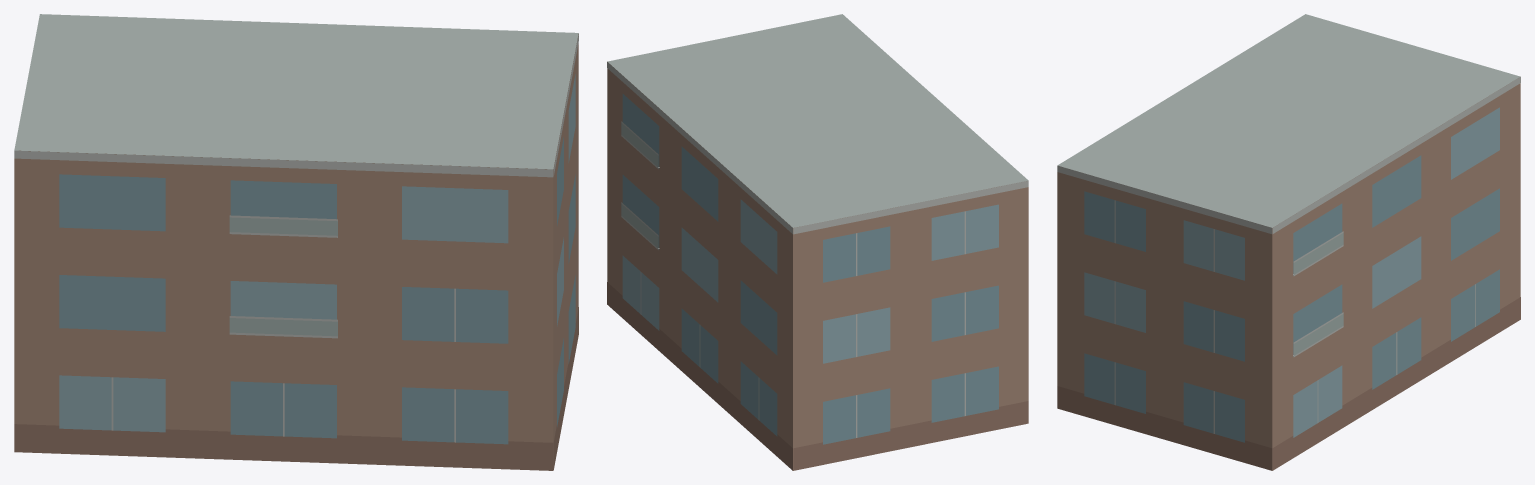
The model's file is survey-upis-32704771.glb.
The picture shows the model from 3 angles, left to right: view 1: azimuth 30°, elevation 25°; view 2: azimuth 150°, elevation 25°; view 3: azimuth 270°, elevation 25°; orthographic projection. The views are drawn at different scales.
Parts seen in each view (by area): view 1: survey-upis-32704771.tmp; view 2: survey-upis-32704771.tmp; view 3: survey-upis-32704771.tmp.
Boxes of the visible parts, box(x1,y1,x2,y2) form: survey-upis-32704771.tmp: box(14, 14, 578, 470); survey-upis-32704771.tmp: box(607, 14, 1028, 470); survey-upis-32704771.tmp: box(1057, 14, 1520, 470).
Bounding box in the file's own units: 17.28 × 9.15 × 15.82.
